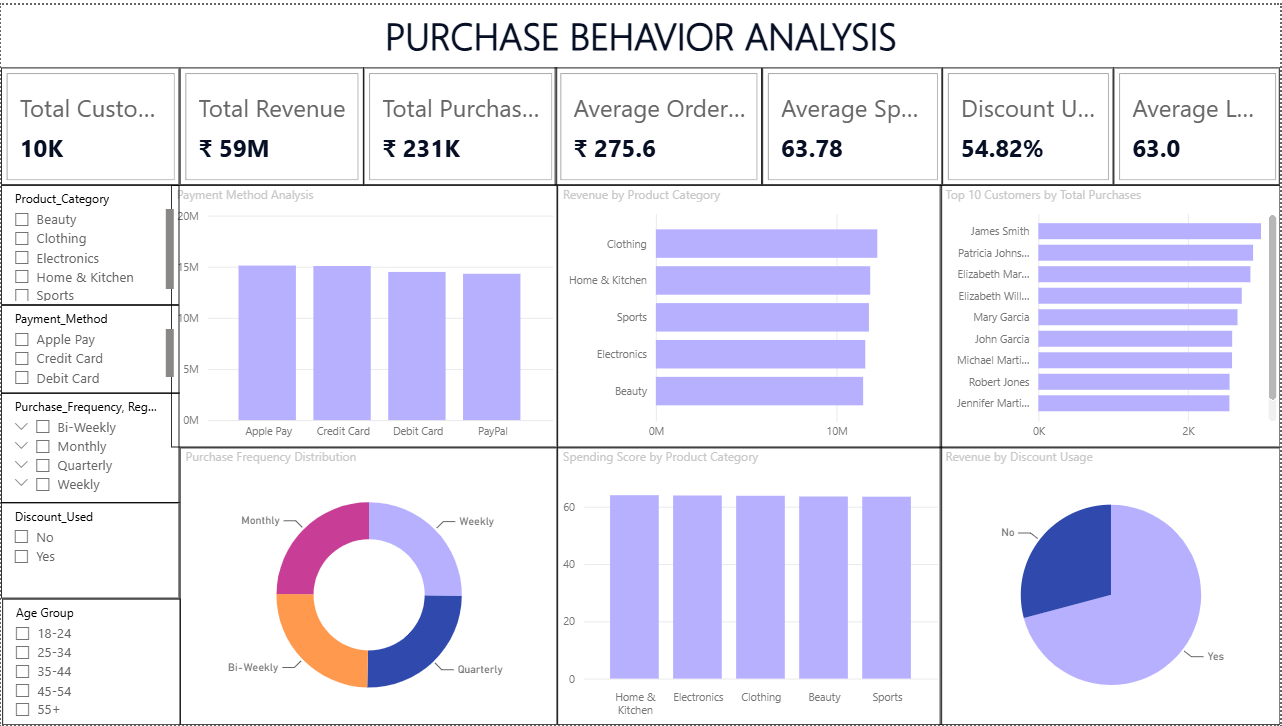

The page's visual inventory and layout, read from the dashboard file:
{"tool":"powerbi","page":{"name":"PURCHASE BEHAVIOR ANALYSIS","canvas":[1280,720],"ordinal":2},"visuals":[{"type":"cardVisual","fields":{"Data":["Customer Data.Total Customers"]},"box":[0,62.5,178.8,117.5],"z":0},{"type":"cardVisual","fields":{"Data":["Customer Data.Average Order Value"]},"box":[553.8,62.5,207.5,117.5],"z":1000},{"type":"cardVisual","fields":{"Data":["Customer Data.Average Spending Score"]},"box":[761.2,62.5,180,117.5],"z":2000},{"type":"cardVisual","fields":{"Data":["Customer Data.Average Loyalty Score"]},"box":[1112.5,62.5,167.5,117.5],"z":3000},{"type":"cardVisual","fields":{"Data":["Customer Data.Discount Usage %"]},"box":[941.2,62.5,171.2,117.5],"z":4000},{"type":"cardVisual","fields":{"Data":["Customer Data.Total Purchases"]},"box":[362.5,62.5,193.8,117.5],"z":5000},{"type":"cardVisual","fields":{"Data":["Customer Data.Total Revenue"]},"box":[178.8,62.5,183.8,117.5],"z":6000},{"type":"clusteredColumnChart","title":"Payment Method Analysis","fields":{"Y":["Sum(Customer Data.Purchase_Amount)"],"Category":["Customer Data.Payment_Method"]},"box":[170,180,386.2,262.5],"z":7000},{"type":"donutChart","title":"Purchase Frequency Distribution","fields":{"Y":["CountNonNull(Customer Data.Customer_ID)"],"Category":["Customer Data.Purchase_Frequency"]},"box":[178.8,442.5,377.5,277.5],"z":8000},{"type":"barChart","title":"Revenue by Product Category","fields":{"Category":["Customer Data.Product_Category"],"Y":["Sum(Customer Data.Purchase_Amount)"]},"box":[556.2,180,385,262.5],"z":9000},{"type":"clusteredColumnChart","title":"Spending Score by Product Category","fields":{"Category":["Customer Data.Product_Category"],"Y":["Customer Data.Average Spending Score"]},"box":[556.2,442.5,385,277.5],"z":10000},{"type":"barChart","title":"Top 10 Customers by Total Purchases","fields":{"Category":["Customer Data.Customer_Name"],"Y":["Customer Data.Total Purchases"]},"box":[938.8,180,341.2,262.5],"z":11000},{"type":"textbox","box":[0,0,1280,62.5],"z":12000},{"type":"slicer","fields":{"Values":["Customer Data.Product_Category"]},"box":[0,180,178.8,120],"z":13000},{"type":"slicer","fields":{"Values":["Customer Data.Payment_Method"]},"box":[0,300,178.8,88.8],"z":14000},{"type":"slicer","fields":{"Values":["Customer Data.Purchase_Frequency","Customer Data.Region"]},"box":[0,387.5,178.8,110],"z":15000},{"type":"slicer","fields":{"Values":["Customer Data.Discount_Used"]},"box":[0,497.5,178.8,96.2],"z":16000},{"type":"slicer","fields":{"Values":["Customer Data.Age Group"]},"box":[1.2,593.8,178.8,126.2],"z":17000},{"type":"pieChart","title":"Revenue by Discount Usage","fields":{"Category":["Customer Data.Discount_Used"],"Y":["Sum(Customer Data.Purchase_Amount)"]},"box":[938.8,442.5,341.2,277.5],"z":18000}]}

Visuals, with their boxes in screenshot pixels (x1, y1, x2, y2), scaled from the page's 1280x720 canvas onto the 1282x726 screenshot:
cardVisual - Customer Data.Total Customers: [0, 63, 179, 182]
cardVisual - Customer Data.Average Order Value: [555, 63, 762, 182]
cardVisual - Customer Data.Average Spending Score: [762, 63, 943, 182]
cardVisual - Customer Data.Average Loyalty Score: [1114, 63, 1281, 182]
cardVisual - Customer Data.Discount Usage %: [943, 63, 1114, 182]
cardVisual - Customer Data.Total Purchases: [363, 63, 557, 182]
cardVisual - Customer Data.Total Revenue: [179, 63, 363, 182]
"Payment Method Analysis" clusteredColumnChart: [170, 182, 557, 446]
"Purchase Frequency Distribution" donutChart: [179, 446, 557, 725]
"Revenue by Product Category" barChart: [557, 182, 943, 446]
"Spending Score by Product Category" clusteredColumnChart: [557, 446, 943, 725]
"Top 10 Customers by Total Purchases" barChart: [940, 182, 1281, 446]
textbox: [0, 0, 1281, 63]
slicer - Customer Data.Product_Category: [0, 182, 179, 302]
slicer - Customer Data.Payment_Method: [0, 302, 179, 392]
slicer - Customer Data.Purchase_Frequency x Customer Data.Region: [0, 391, 179, 502]
slicer - Customer Data.Discount_Used: [0, 502, 179, 599]
slicer - Customer Data.Age Group: [1, 599, 180, 725]
"Revenue by Discount Usage" pieChart: [940, 446, 1281, 725]
